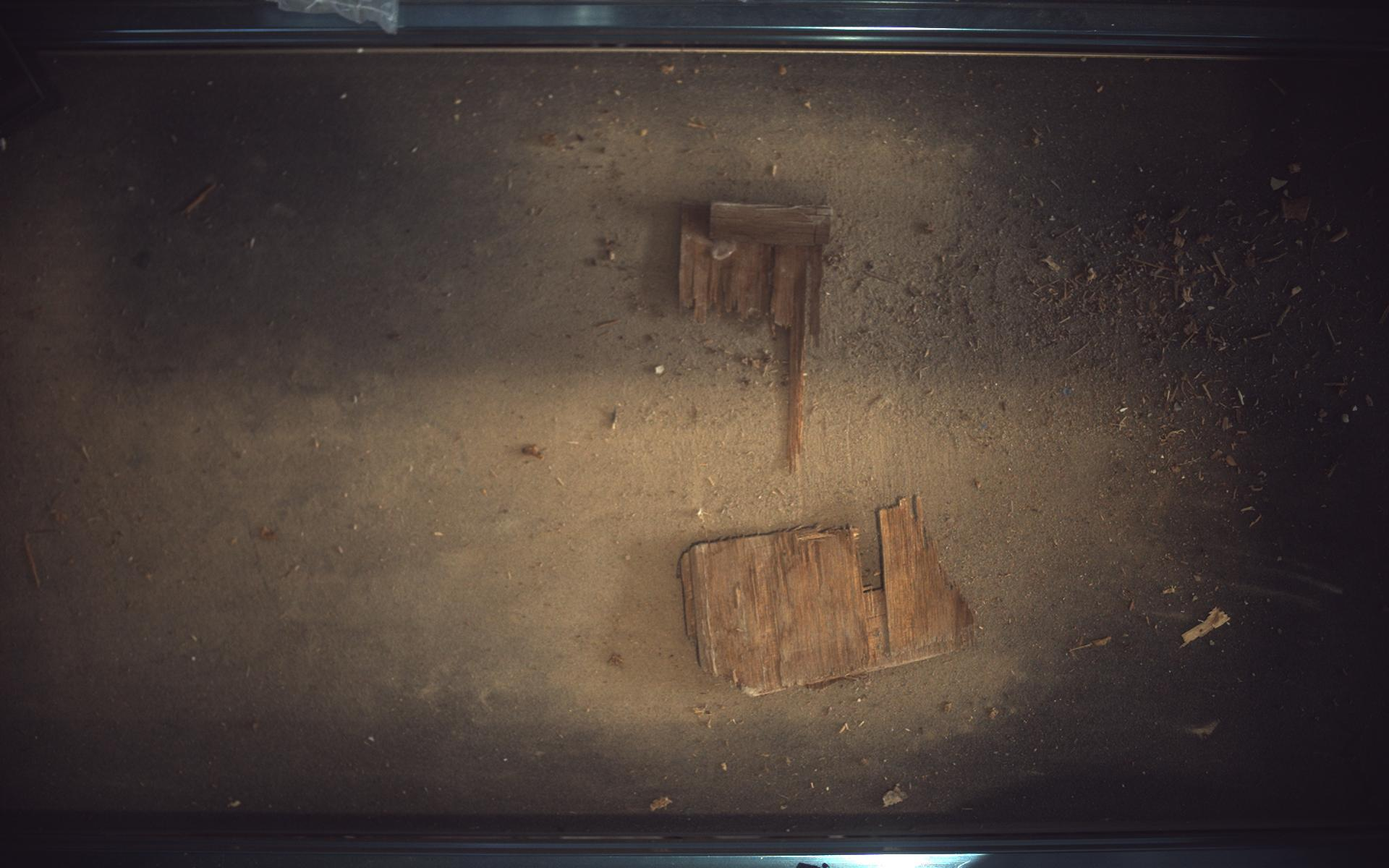wood: (682, 496, 977, 697), (681, 201, 833, 472)
